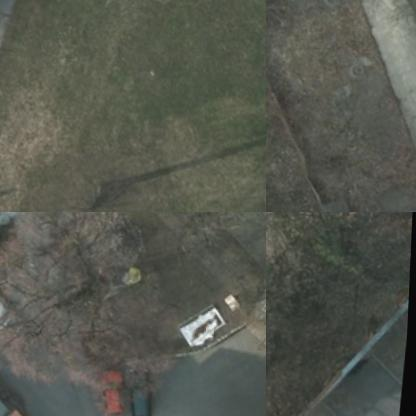car: (97, 354, 128, 412), (129, 359, 158, 411), (0, 274, 25, 326)
